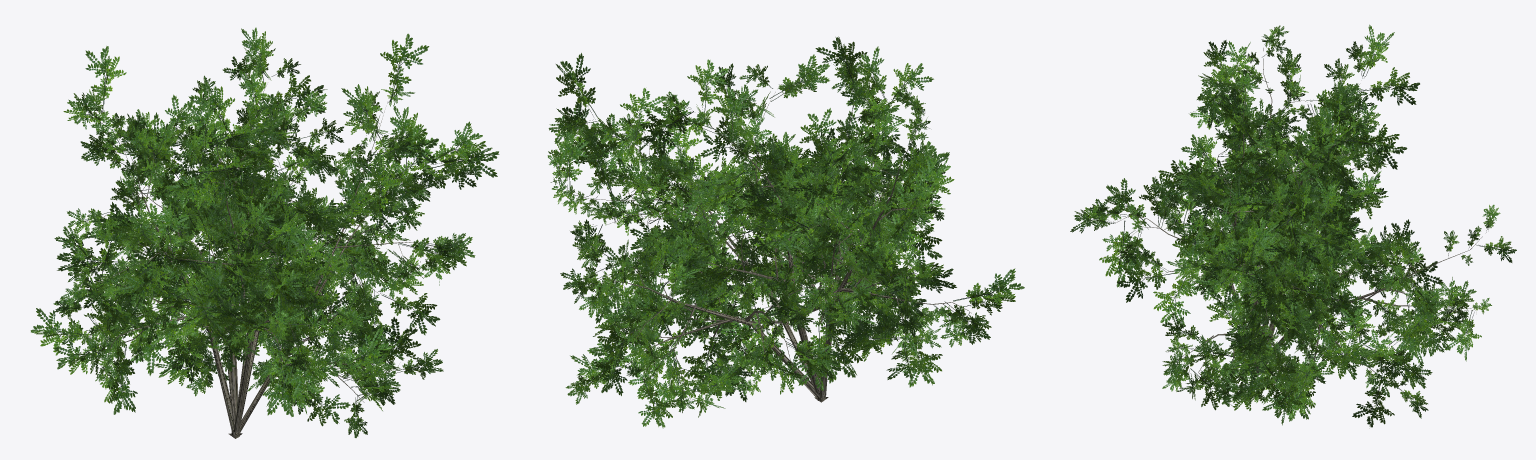
File: tree_LOD1.glb
3 renders of one model, left to right at view 1: azimuth 30°, elevation 25°; view 2: azimuth 150°, elevation 25°; view 3: azimuth 270°, elevation 25°, orthographic. The views are drawn at different scales.
Parts seen in each view (by area): view 1: Leaves_LOD1, Branches_LOD1; view 2: Leaves_LOD1, Branches_LOD1; view 3: Leaves_LOD1, Branches_LOD1.
Part boxes in pixels (x1,y1,x2,y2): Leaves_LOD1: (30, 27, 499, 437); Branches_LOD1: (90, 79, 431, 438); Leaves_LOD1: (547, 36, 1024, 428); Branches_LOD1: (573, 92, 971, 402); Leaves_LOD1: (1070, 24, 1516, 427); Branches_LOD1: (1113, 48, 1486, 392).
Size of the model in its own units: 36.68 by 28.22 by 34.76.
Materials: 2 (2 with a texture image).
